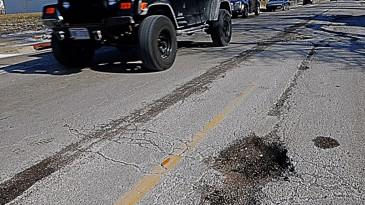Pothole: (214, 127, 290, 193)
